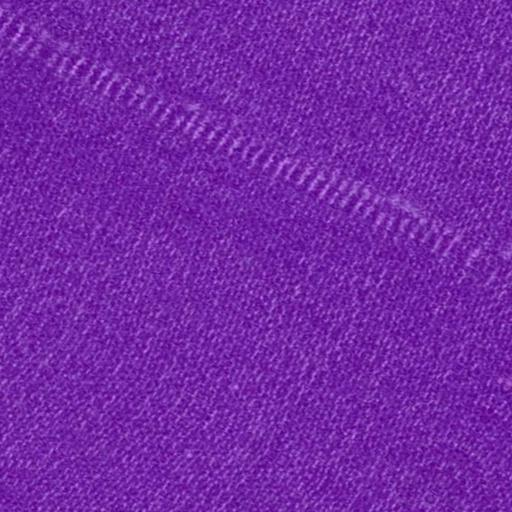slub: (1, 8, 485, 290)
